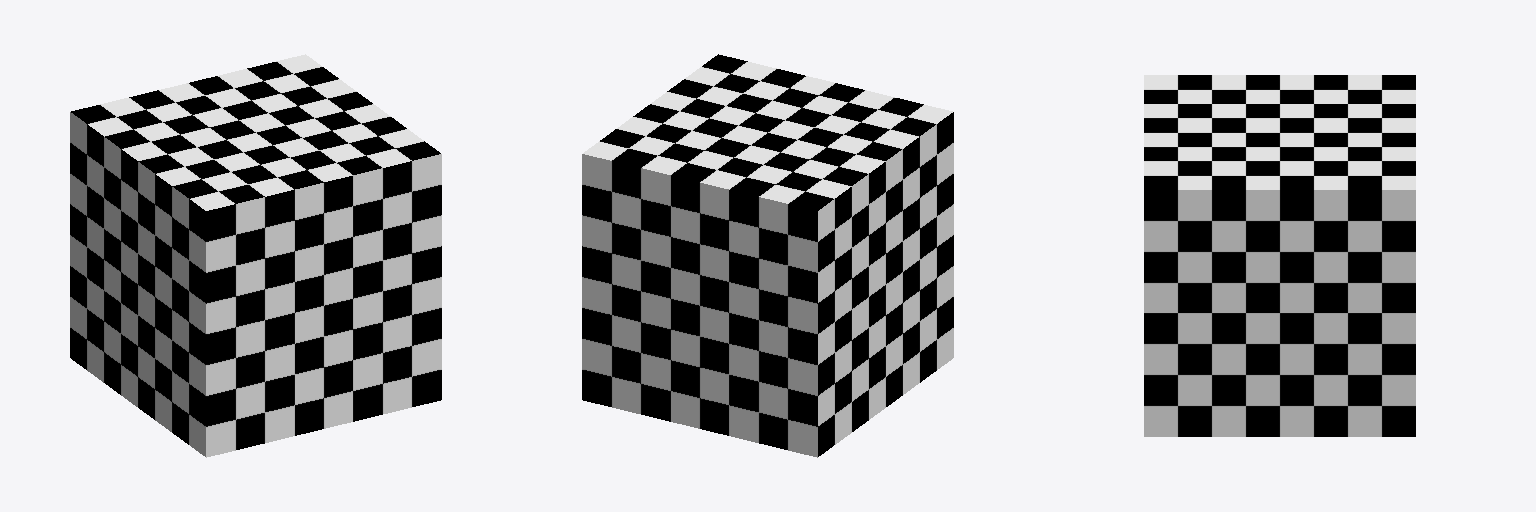
The picture shows the model from 3 angles: view 1: azimuth 30°, elevation 25°; view 2: azimuth 150°, elevation 25°; view 3: azimuth 270°, elevation 25°; orthographic projection.
Visible parts, largest first — view 1: Cube; view 2: Cube; view 3: Cube.
Boxes of the visible parts, x1,y1,x2,y2 form: Cube: [70, 54, 441, 457]; Cube: [582, 54, 953, 457]; Cube: [1144, 75, 1415, 436].
Size of the model in its own units: 2 by 2 by 2.
Materials: 1 (1 with a texture image).